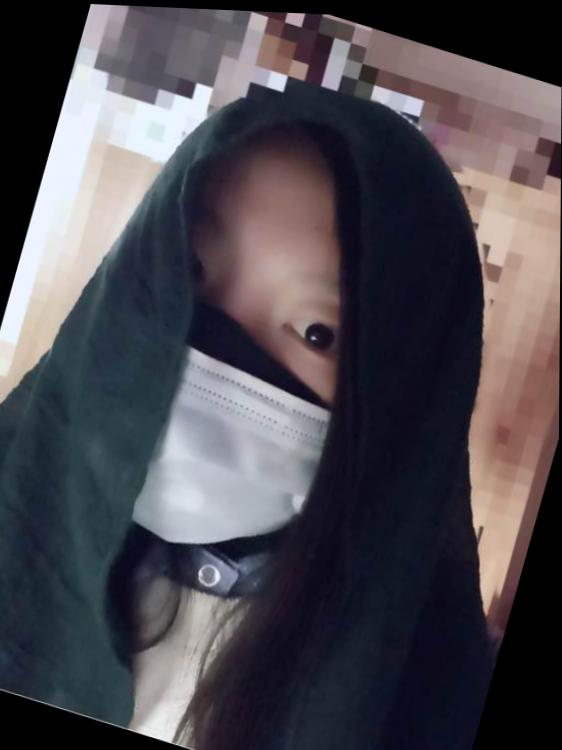WRONG: (65, 193, 447, 587)
